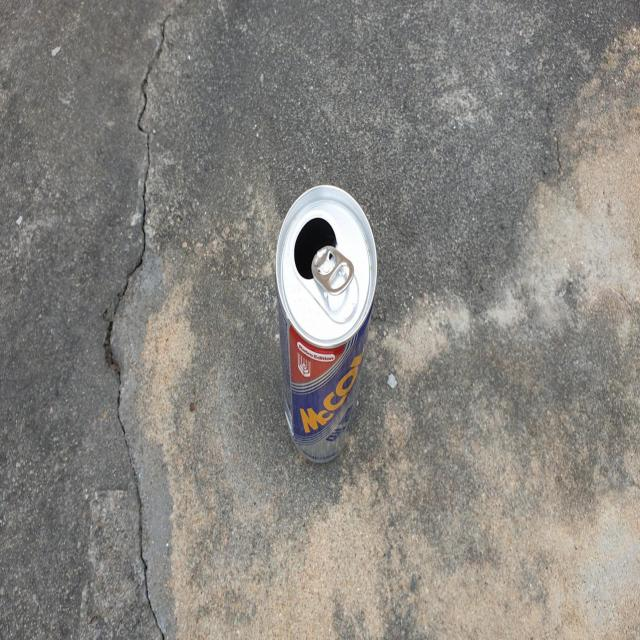can: (276, 184, 377, 462)
